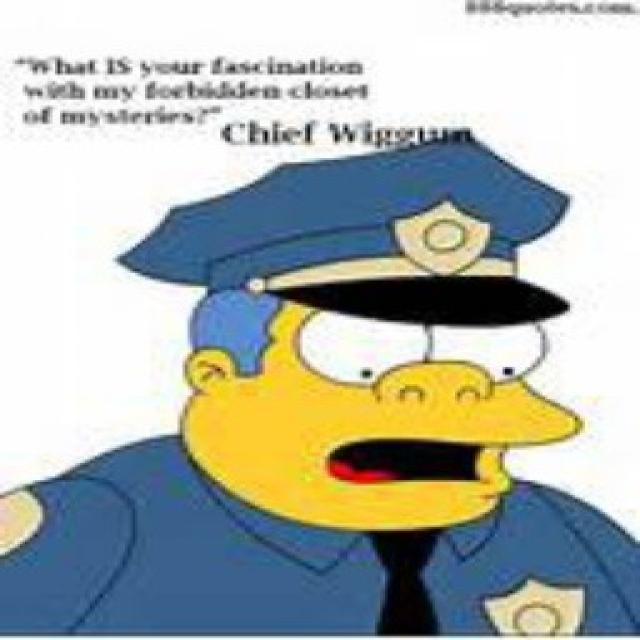Chief Wiggam: (118, 136, 588, 538)
